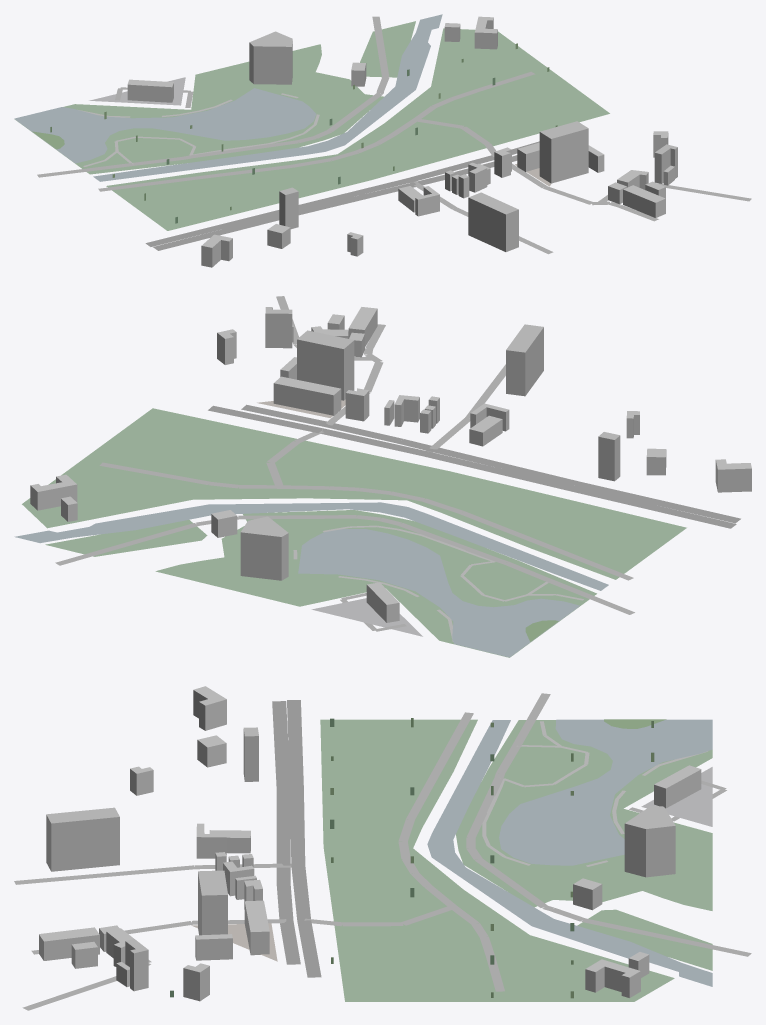
3 renders of one model, top to bottom at view 1: azimuth 30°, elevation 25°; view 2: azimuth 150°, elevation 25°; view 3: azimuth 270°, elevation 25°, orthographic. The views are drawn at different scales.
Size of the model in its own units: 566 by 48.4 by 553.
